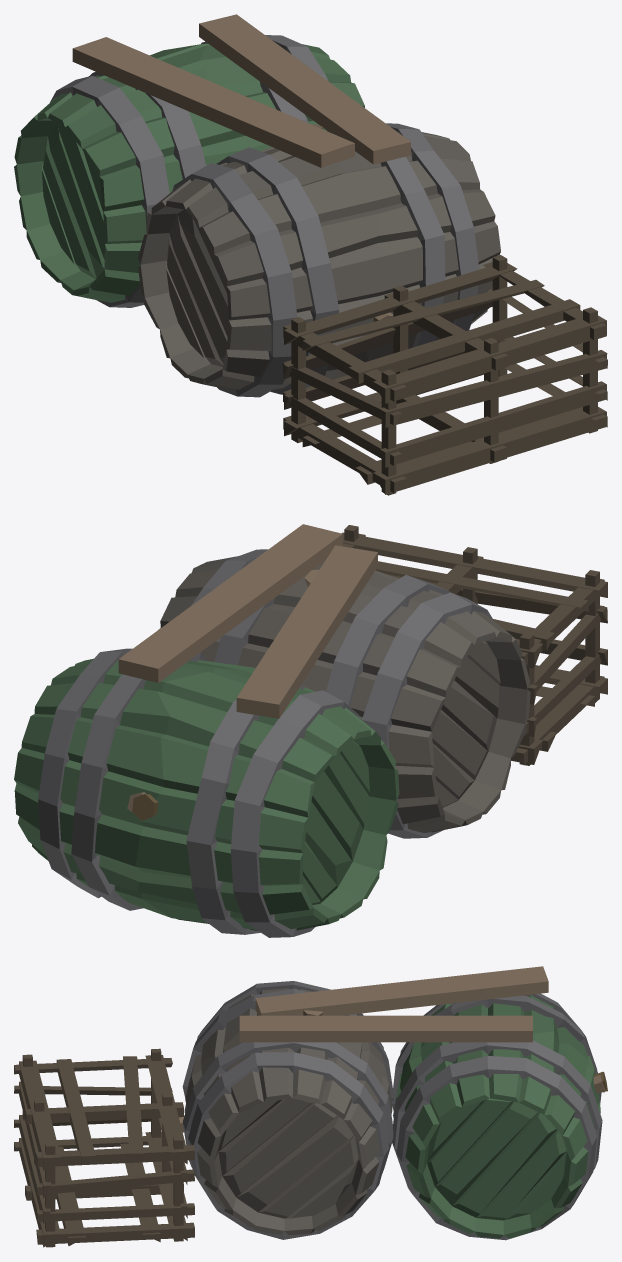
File: SM_Prop_Stack_05.fbx
The picture shows the model from 3 angles, top to bottom: view 1: azimuth 30°, elevation 25°; view 2: azimuth 150°, elevation 25°; view 3: azimuth 270°, elevation 25°; orthographic projection. The views are drawn at different scales.
Parts seen in each view (by area): view 1: SM_Prop_Stack_05; view 2: SM_Prop_Stack_05; view 3: SM_Prop_Stack_05.
Part boxes in pixels (x1,y1,x2,y2): SM_Prop_Stack_05: [14, 14, 607, 495]; SM_Prop_Stack_05: [14, 524, 607, 937]; SM_Prop_Stack_05: [14, 966, 607, 1247].
Size of the model in its own units: 1.09 by 0.9011 by 2.4.
